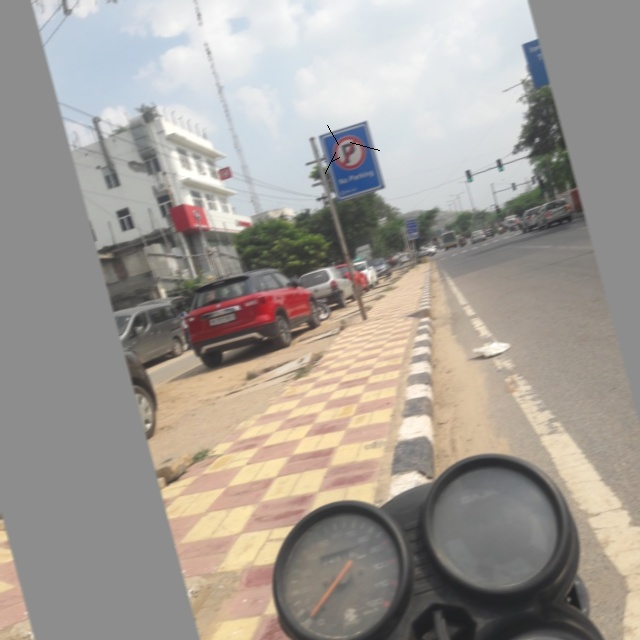No_Parking: (320, 121, 379, 179)
